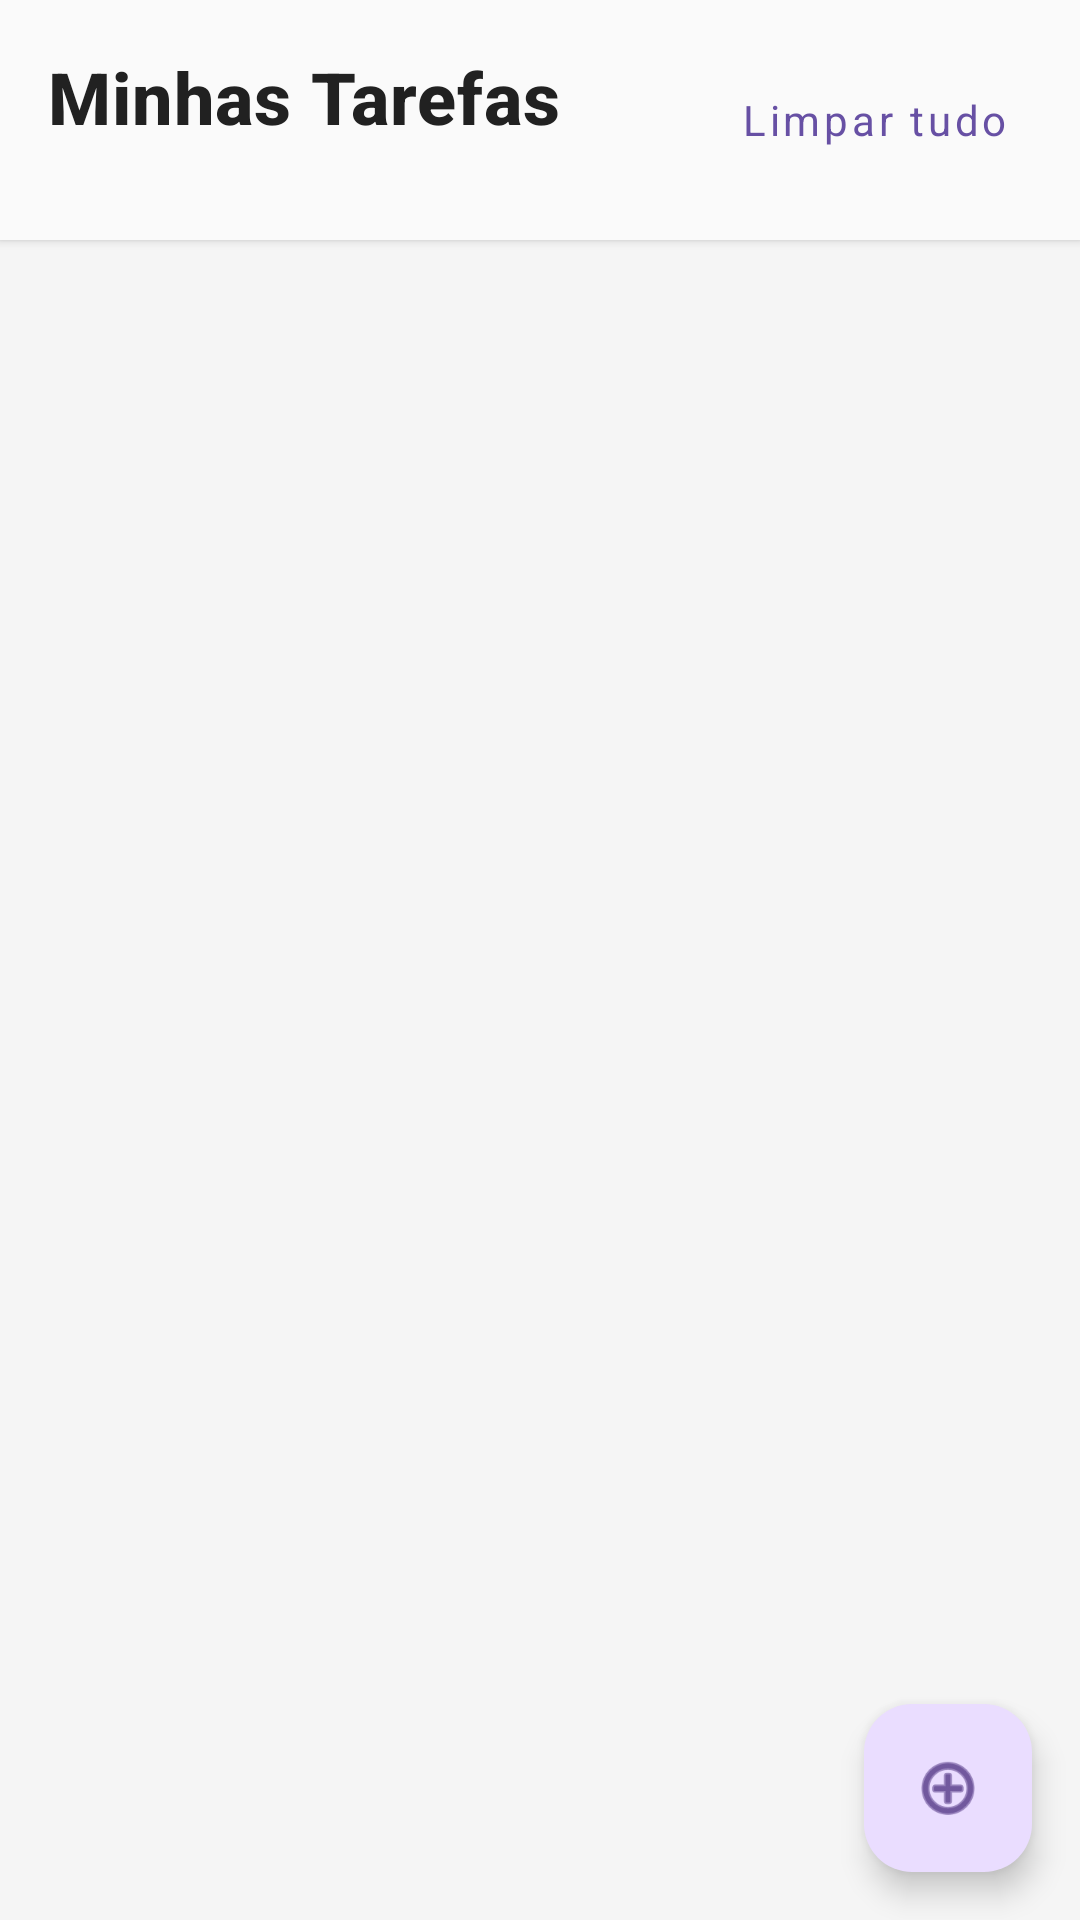

Screen size 1080px×1920px. Icon name, then its center in pixels as (x,y):
Adicionar tarefa: (948,1788)
